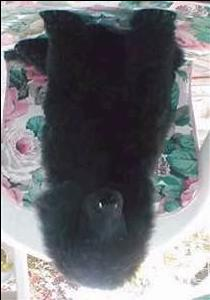dog: (4, 8, 186, 291)
